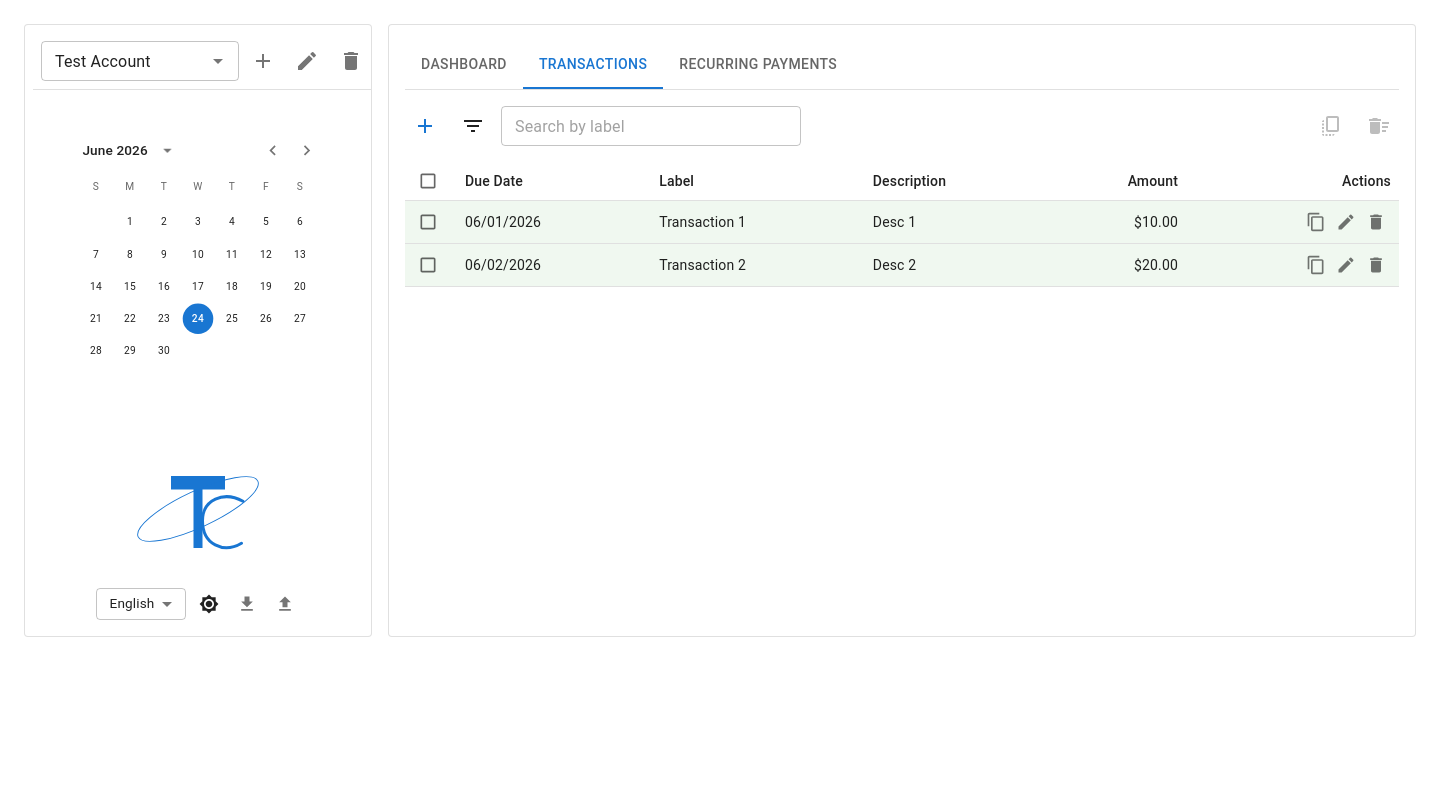
TransactionEditionArea › opens TransactionEditor in clone mode when copy icon is clicked
Expected: the text "Transaction 1" is shown, [643,201,857,244]
Click the button named "clone transaction" in the row of "06/01/2026": (1316, 222) [1301,207,1331,237]
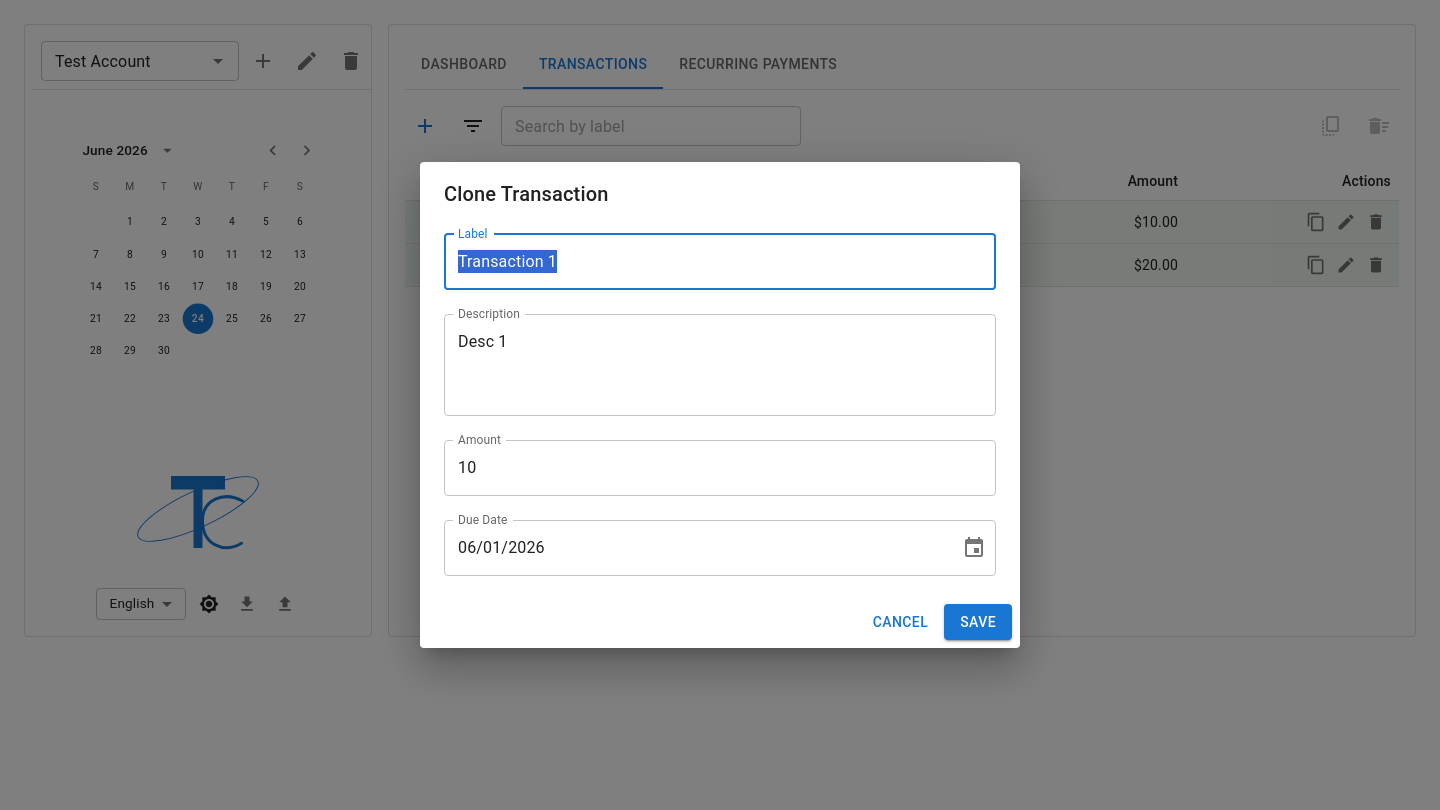
Now the heading "Clone Transaction" is shown, box [444,182,608,206]
